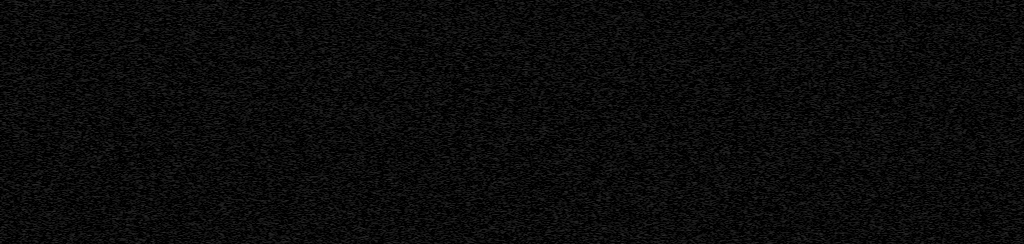wv_am: (655, 0, 671, 244), (540, 0, 552, 244)
wv_lsb: (622, 219, 629, 244), (623, 60, 629, 85), (625, 10, 628, 15), (625, 110, 628, 113), (625, 91, 628, 94)
wv_usb: (844, 160, 848, 189), (843, 232, 848, 241), (843, 225, 848, 229), (844, 78, 848, 82)
wv_wbfm: (240, 0, 382, 244), (238, 31, 257, 34)
